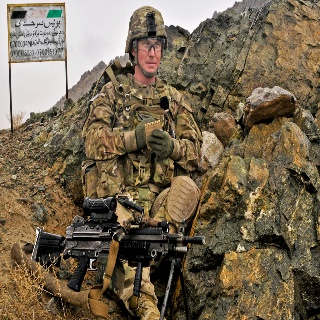rifle: (30, 195, 208, 297)
